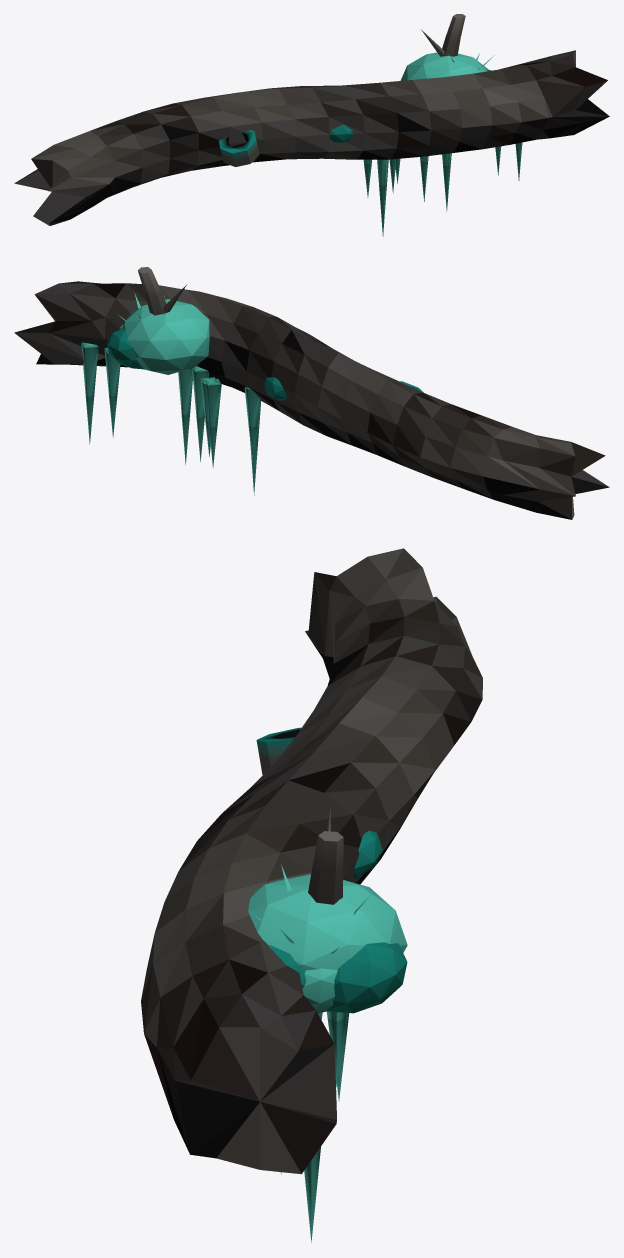
Rendered from pohon_tumbang_bridge_swamp_270330.glb.
3 views of the same model, one above another, from view 1: azimuth 30°, elevation 25°; view 2: azimuth 150°, elevation 25°; view 3: azimuth 270°, elevation 25° (orthographic). The views are drawn at different scales.
Visible parts, largest first — view 1: Batang_Melintang_Sungai; view 2: Batang_Melintang_Sungai; view 3: Batang_Melintang_Sungai.
Boxes of the visible parts, x1,y1,x2,y2 form: Batang_Melintang_Sungai: (14, 14, 609, 236); Batang_Melintang_Sungai: (14, 267, 609, 519); Batang_Melintang_Sungai: (141, 548, 482, 1242).
Bounding box in the file's own units: 7.46 × 2.57 × 2.06.
